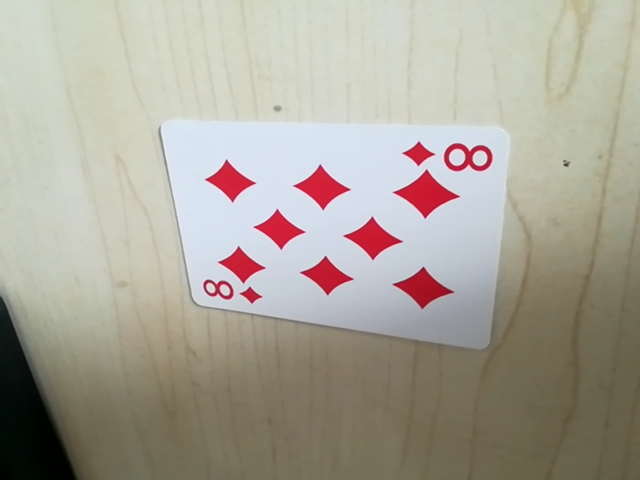fk 8: (400, 132, 498, 175), (196, 276, 264, 311)
